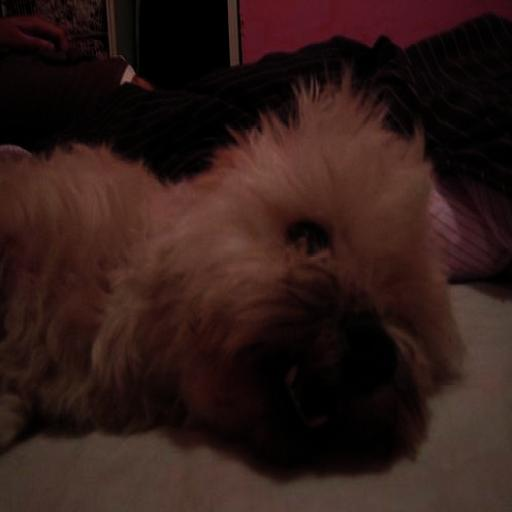dog_face: (161, 100, 470, 474)
